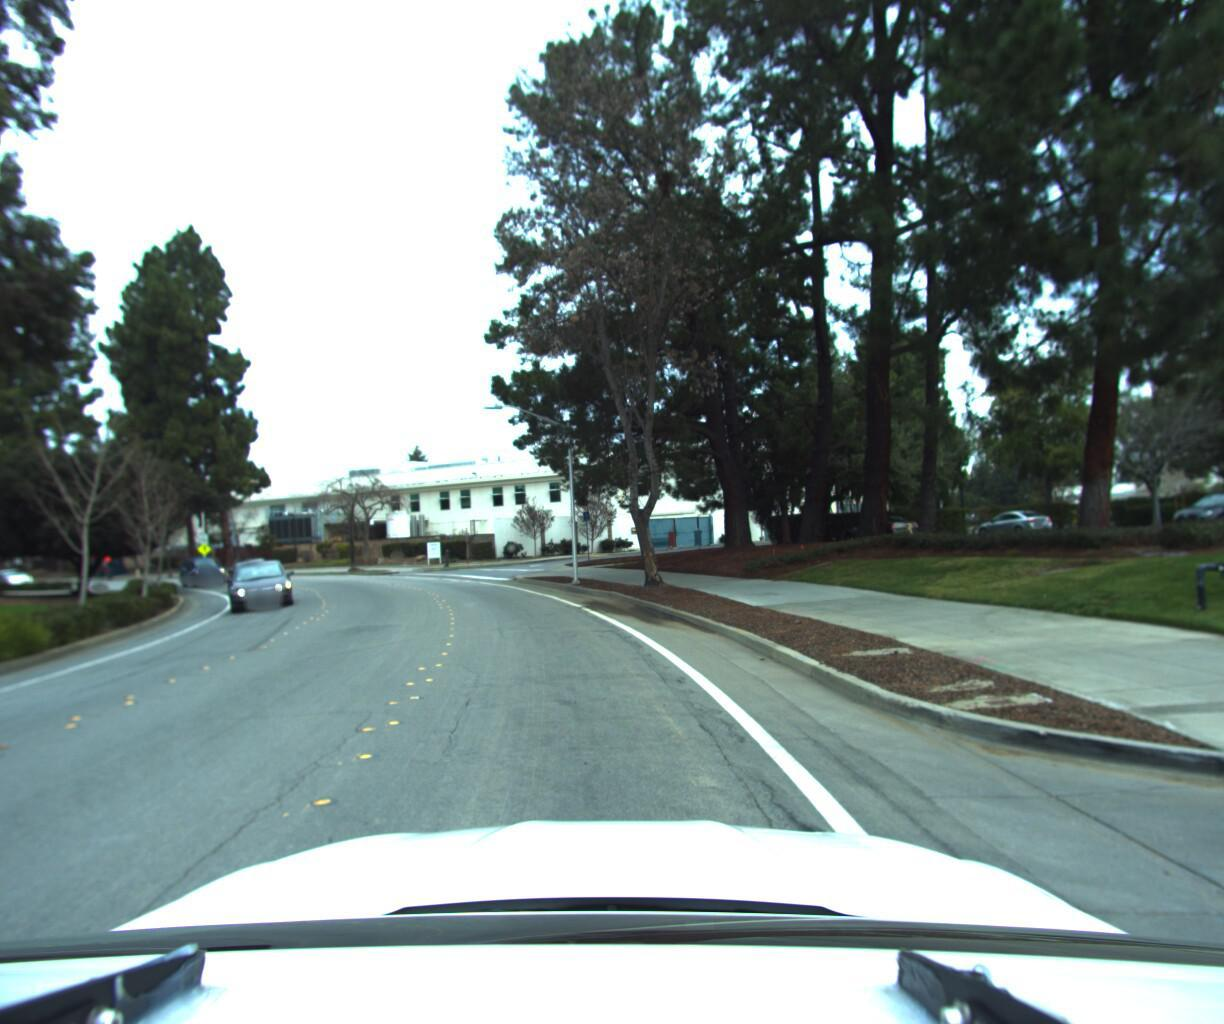car: (225, 552, 297, 614), (175, 553, 227, 587), (0, 566, 41, 587)
